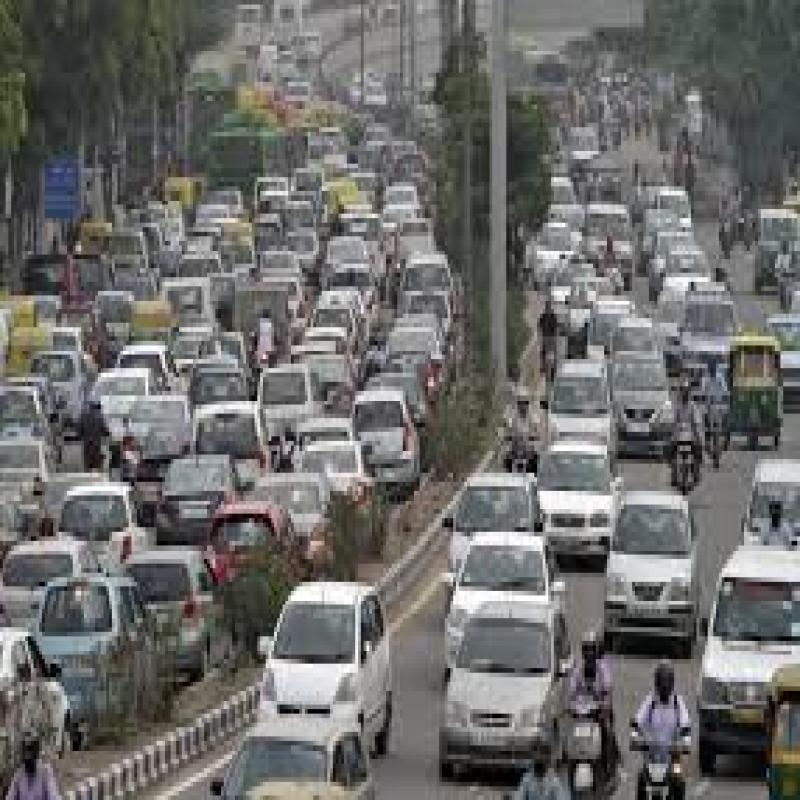auto: (763, 663, 800, 800)
bike: (632, 718, 688, 800), (570, 686, 612, 794)
car: (266, 567, 407, 747), (689, 538, 800, 747), (447, 572, 550, 789), (27, 574, 151, 730), (619, 476, 707, 648), (538, 438, 621, 564), (605, 343, 684, 465), (350, 378, 422, 494)
